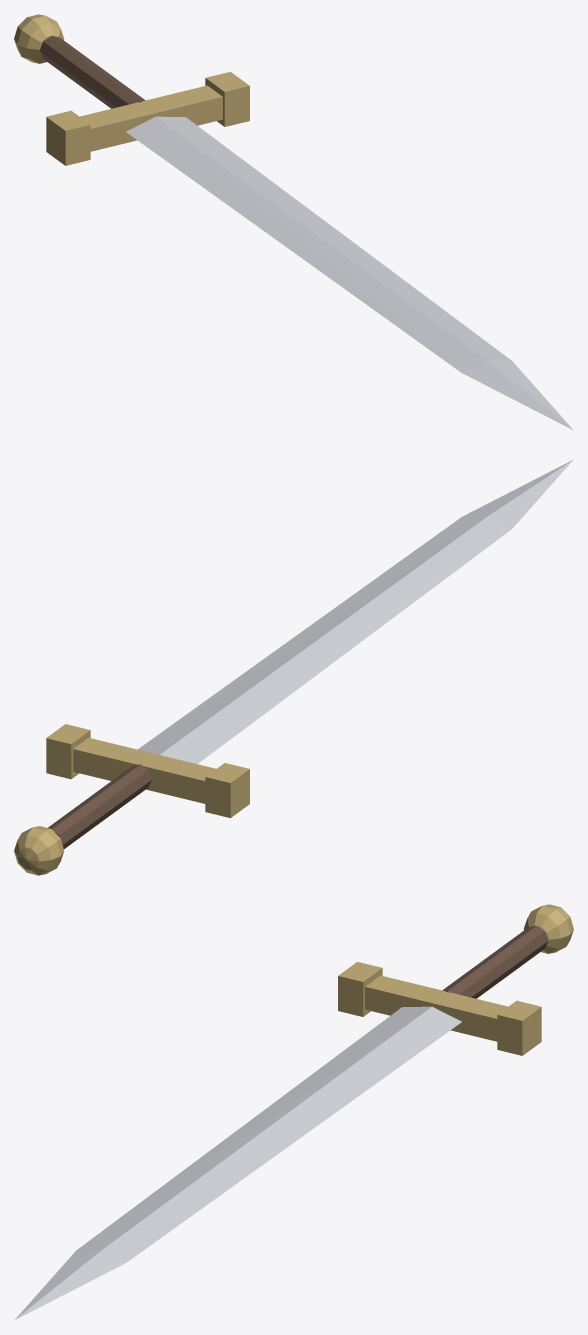
The model's file is test_sword.glb.
3 views of the same model, one above another, from view 1: azimuth 30°, elevation 25°; view 2: azimuth 150°, elevation 25°; view 3: azimuth 330°, elevation 25° (orthographic).
Visible parts, largest first — view 1: AshbrandSword; view 2: AshbrandSword; view 3: AshbrandSword.
Boxes of the visible parts, x1,y1,x2,y2 form: AshbrandSword: (14, 14, 573, 430); AshbrandSword: (14, 459, 573, 875); AshbrandSword: (14, 904, 573, 1320).
Size of the model in its own units: 0.22 by 0.0495 by 1.13.
